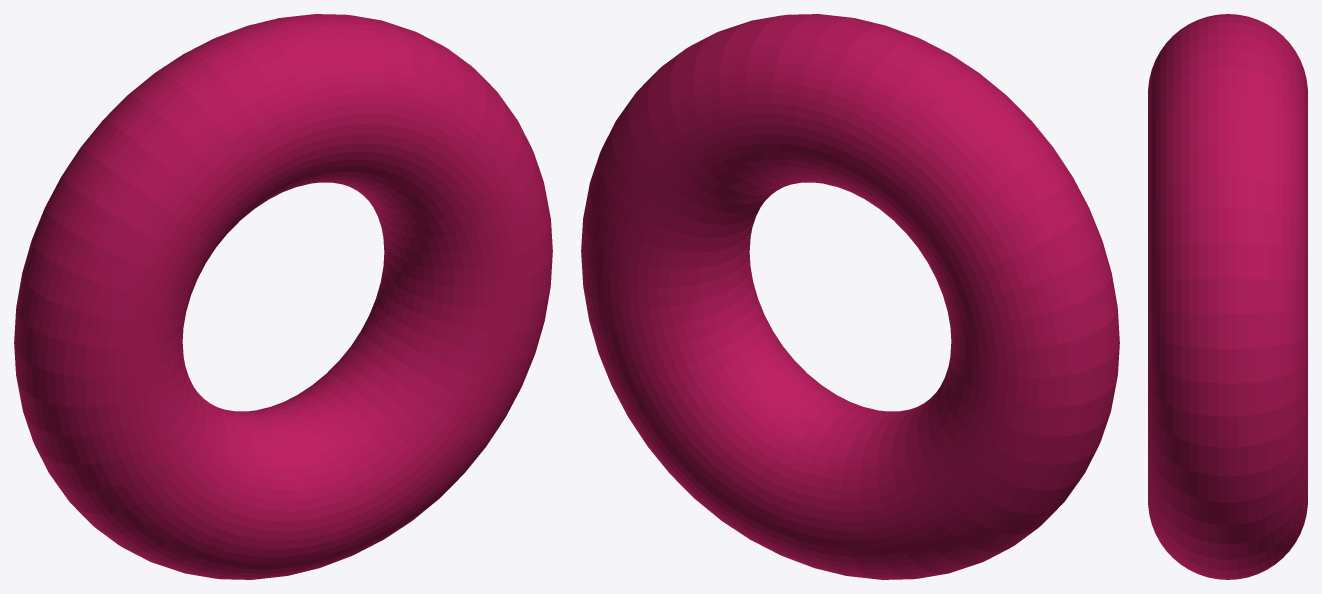
The picture shows the model from 3 angles, left to right: view 1: azimuth 30°, elevation 25°; view 2: azimuth 150°, elevation 25°; view 3: azimuth 270°, elevation 25°; orthographic projection. The views are drawn at different scales.
Visible parts, largest first — view 1: world; view 2: world; view 3: world.
Boxes of the visible parts, x1=… form: world: x1=14, y1=14, x2=552, y2=579; world: x1=581, y1=14, x2=1119, y2=579; world: x1=1148, y1=14, x2=1307, y2=579.
Size of the model in its own units: 33.47 by 33.4 by 9.45.
